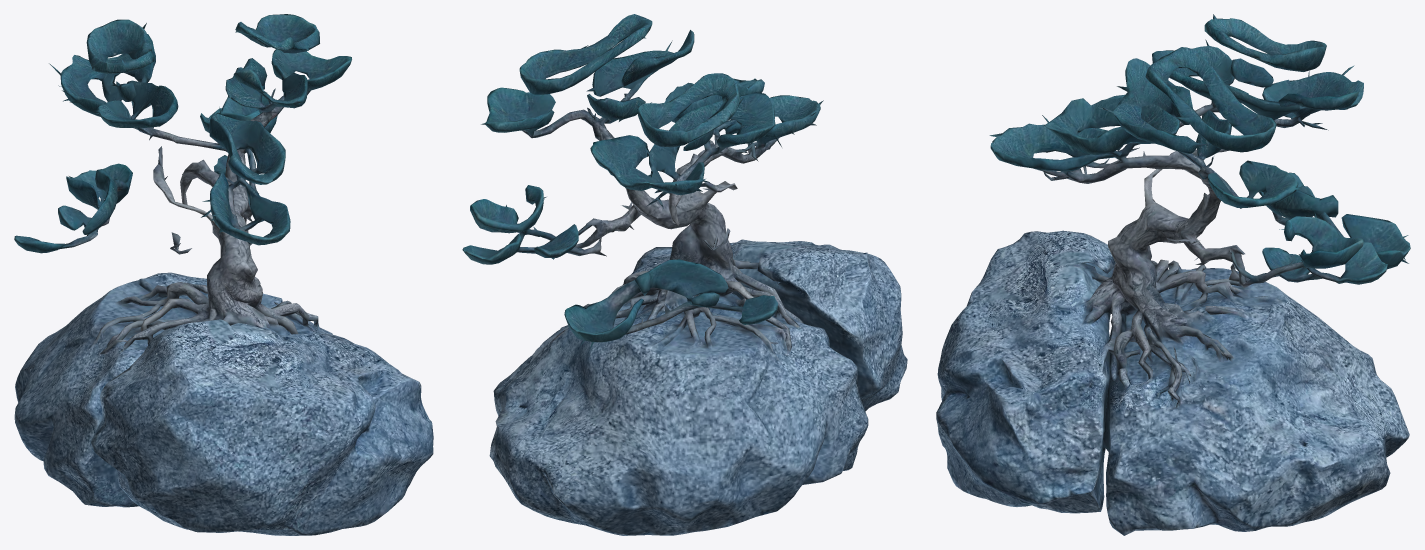
The model's file is pine_small.glb.
3 renders of one model, left to right at view 1: azimuth 30°, elevation 25°; view 2: azimuth 150°, elevation 25°; view 3: azimuth 270°, elevation 25°, orthographic. The views are drawn at different scales.
Visible parts, largest first — view 1: tripo_node_8213dd10-a6a8-4798-8eb1-e68547004c4e; view 2: tripo_node_8213dd10-a6a8-4798-8eb1-e68547004c4e; view 3: tripo_node_8213dd10-a6a8-4798-8eb1-e68547004c4e.
Part boxes in pixels (left/top/right/bottom): tripo_node_8213dd10-a6a8-4798-8eb1-e68547004c4e: left=14, top=14, right=433, bottom=535; tripo_node_8213dd10-a6a8-4798-8eb1-e68547004c4e: left=462, top=14, right=907, bottom=535; tripo_node_8213dd10-a6a8-4798-8eb1-e68547004c4e: left=936, top=14, right=1410, bottom=535.
Size of the model in its own units: 0.7895 by 1 by 0.9661.
1 material, 1 textured.
